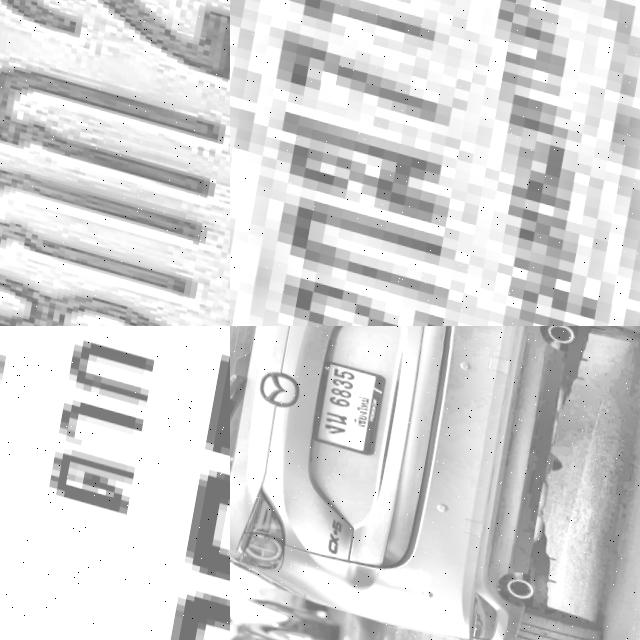license-plate: (230, 0, 640, 326), (0, 0, 230, 326), (0, 326, 230, 640), (302, 348, 396, 454)
